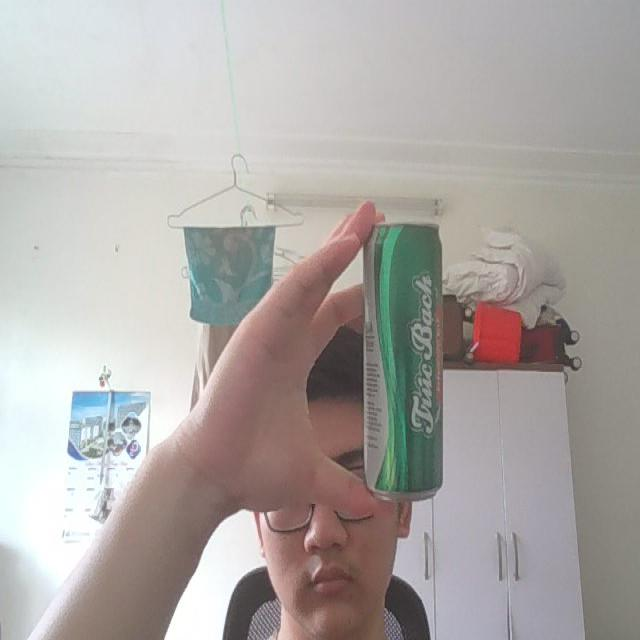Bia-Truc-Bach: (362, 217, 448, 502)
